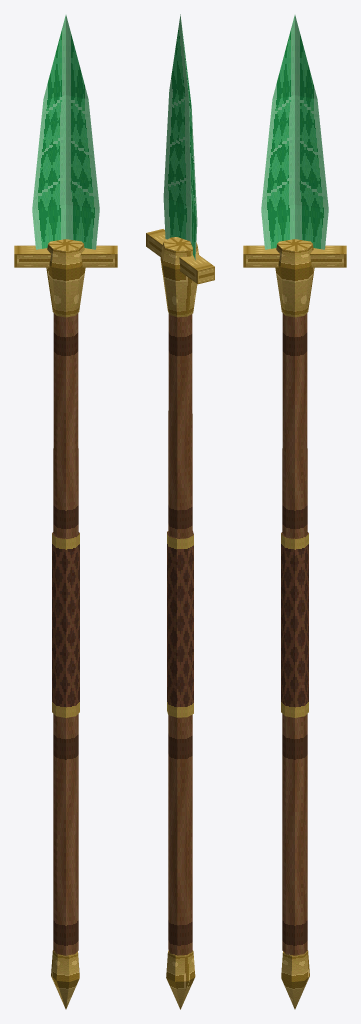
File: lanca_de_esmeralda.glb
3 views of the same model, side by side, from view 1: azimuth 90°, elevation 25°; view 2: azimuth 210°, elevation 25°; view 3: azimuth 270°, elevation 25° (orthographic).
Visible parts, largest first — view 1: lanca_de_esmeralda; view 2: lanca_de_esmeralda; view 3: lanca_de_esmeralda.
Part boxes in pixels (box(x1,y1,x2,y2)): lanca_de_esmeralda: box(14, 15, 117, 1009); lanca_de_esmeralda: box(146, 14, 214, 1009); lanca_de_esmeralda: box(243, 15, 346, 1009).
Bounding box in the file's own units: 0.088 × 2.34 × 0.22.
Materials: 1 (1 with a texture image).
